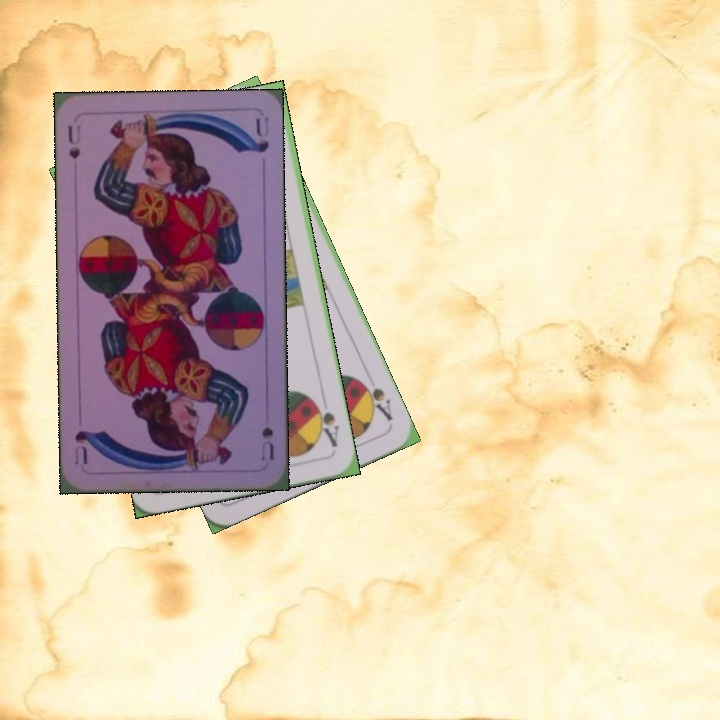SA: (355, 375, 395, 424), (309, 396, 342, 450)
SU: (64, 120, 84, 162), (257, 423, 277, 464)
